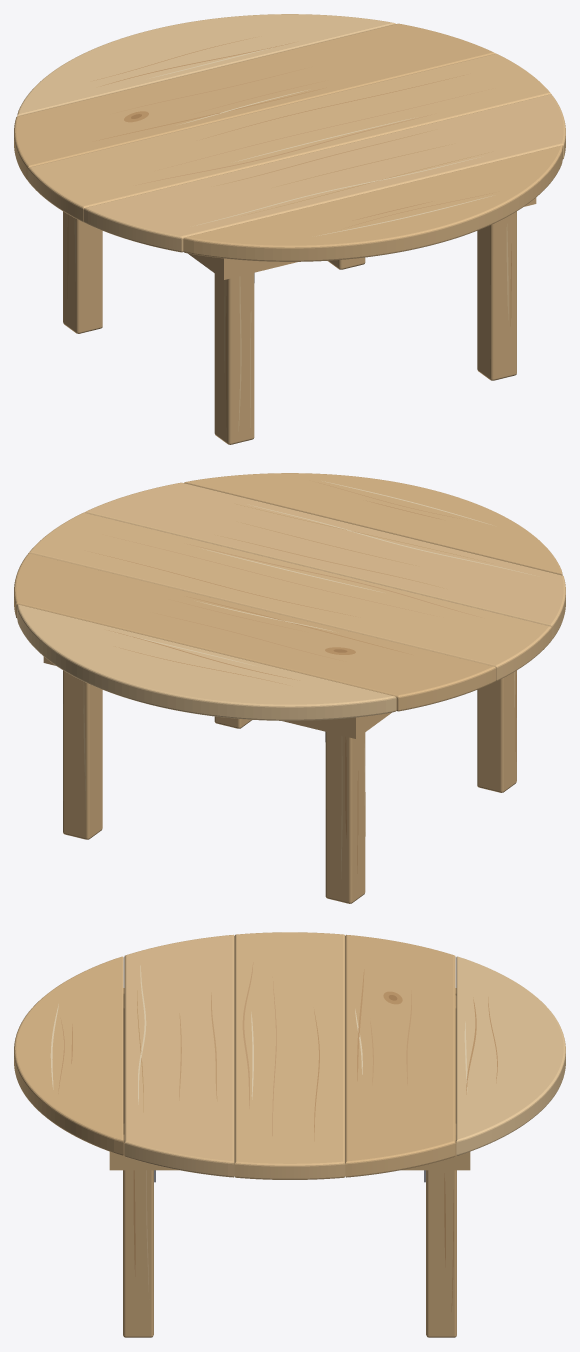
Rendered from table-basse.glb.
3 renders of one model, top to bottom at view 1: azimuth 30°, elevation 25°; view 2: azimuth 150°, elevation 25°; view 3: azimuth 270°, elevation 25°, orthographic.
Visible parts, largest first — view 1: table-basse; view 2: table-basse; view 3: table-basse.
Boxes of the visible parts, x1,y1,x2,y2 form: table-basse: (14, 14, 565, 444); table-basse: (14, 473, 565, 903); table-basse: (14, 932, 565, 1337).
Bounding box in the file's own units: 0.75 × 0.3309 × 0.75.
